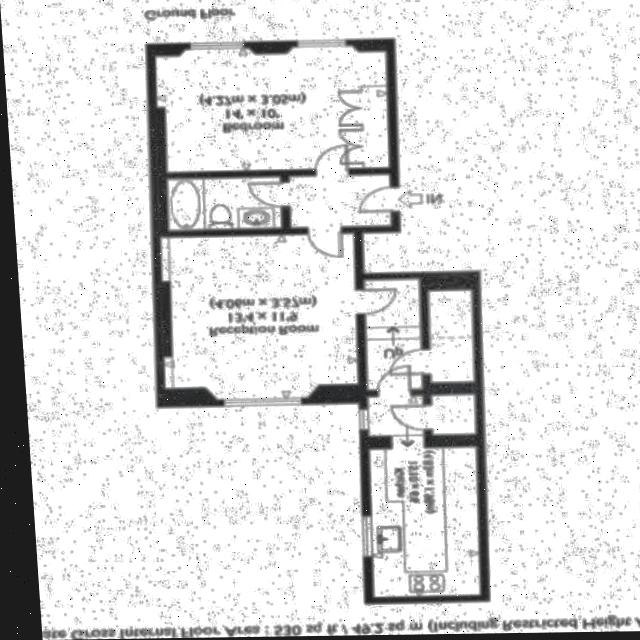room: (171, 230, 360, 401), (156, 51, 391, 172), (373, 445, 485, 597), (367, 277, 429, 436), (170, 177, 283, 230), (169, 177, 283, 228), (292, 176, 391, 226), (432, 289, 477, 382), (436, 393, 479, 435)
